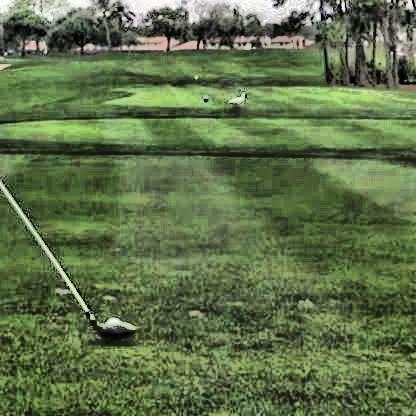golfball: (99, 315, 127, 338)
